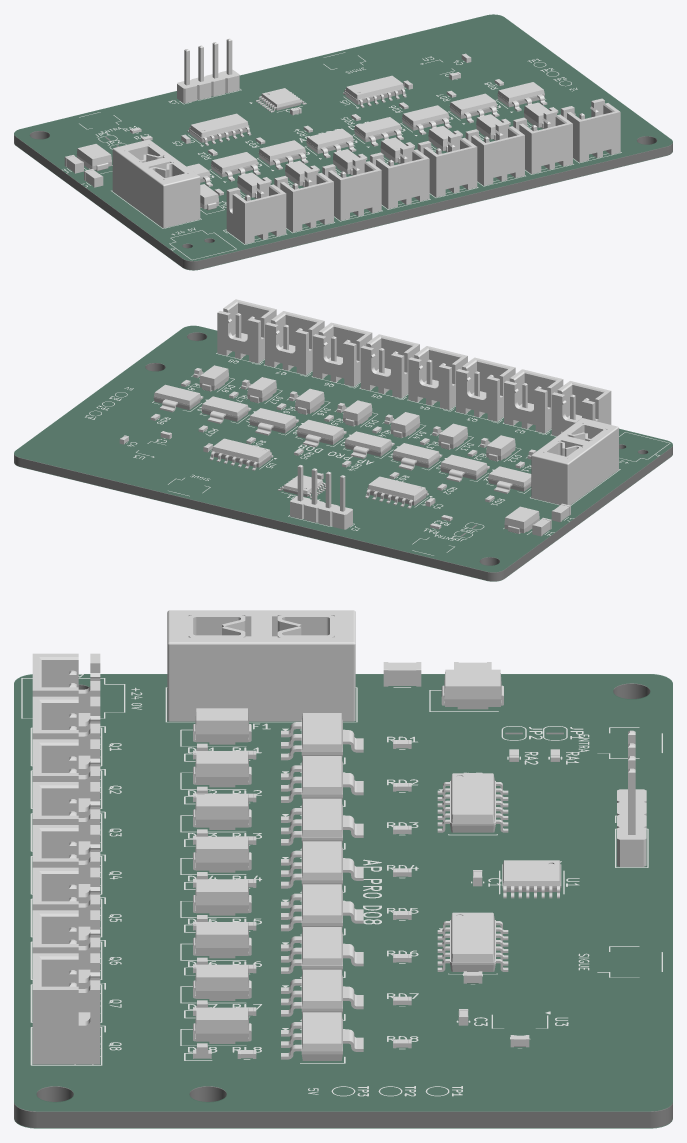
3 views of the same model, one above another, from view 1: azimuth 30°, elevation 25°; view 2: azimuth 150°, elevation 25°; view 3: azimuth 270°, elevation 25° (orthographic). The views are drawn at different scales.
Parts seen in each view (by area): view 1: =>[0:1:1:19], =>[0:1:1:17], F1, J5, =>[0:1:1:15], J9, J8, J6, J10, J11, J12, J7 (+21 smaller); view 2: =>[0:1:1:19], =>[0:1:1:17], F1, =>[0:1:1:15], J10, J9, J6, J11, J7, J12, J8, J5 (+21 smaller); view 3: =>[0:1:1:17], =>[0:1:1:19], F1, =>[0:1:1:15], J12, U5, U4, J5, J11, J10, J6, J9 (+22 smaller).
Boxes of the visible parts, box(x1,y1,x2,y2) form: =>[0:1:1:19]: box(14, 15, 672, 270); =>[0:1:1:17]: box(14, 14, 672, 261); F1: box(112, 139, 200, 227); J5: box(226, 180, 286, 243); =>[0:1:1:15]: box(62, 52, 621, 260); J9: box(417, 133, 477, 197); J8: box(370, 145, 429, 209); J6: box(274, 168, 333, 232); J10: box(465, 122, 524, 185); J11: box(513, 110, 572, 173); J12: box(561, 98, 620, 162); J7: box(322, 157, 381, 220); =>[0:1:1:19]: box(14, 326, 672, 581); =>[0:1:1:17]: box(14, 325, 672, 572); F1: box(531, 418, 618, 505); =>[0:1:1:15]: box(85, 353, 670, 555); J10: box(312, 322, 372, 386); J9: box(360, 334, 419, 398); J6: box(504, 369, 563, 433); J11: box(265, 311, 324, 374); J7: box(456, 357, 515, 421); J12: box(217, 299, 276, 363); J8: box(408, 346, 467, 409); J5: box(551, 381, 611, 436); =>[0:1:1:17]: box(14, 674, 672, 1111); =>[0:1:1:19]: box(14, 675, 672, 1127); F1: box(167, 610, 355, 721); =>[0:1:1:15]: box(21, 674, 662, 1096); J12: box(32, 953, 100, 1064); U5: box(437, 912, 508, 971); U4: box(437, 773, 508, 832); J5: box(32, 653, 100, 732); J11: box(32, 910, 100, 988); J10: box(32, 867, 100, 945); J6: box(32, 696, 100, 774); J9: box(32, 825, 100, 903).
Bounding box in the file's own units: 0.088 × 0.0119 × 0.056.
